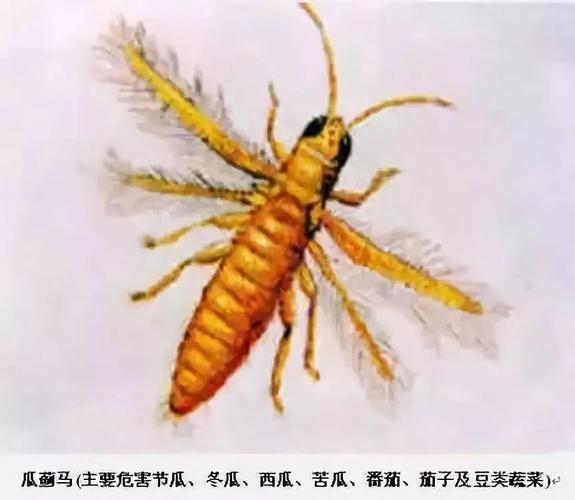Thripidae: (98, 4, 522, 433)
